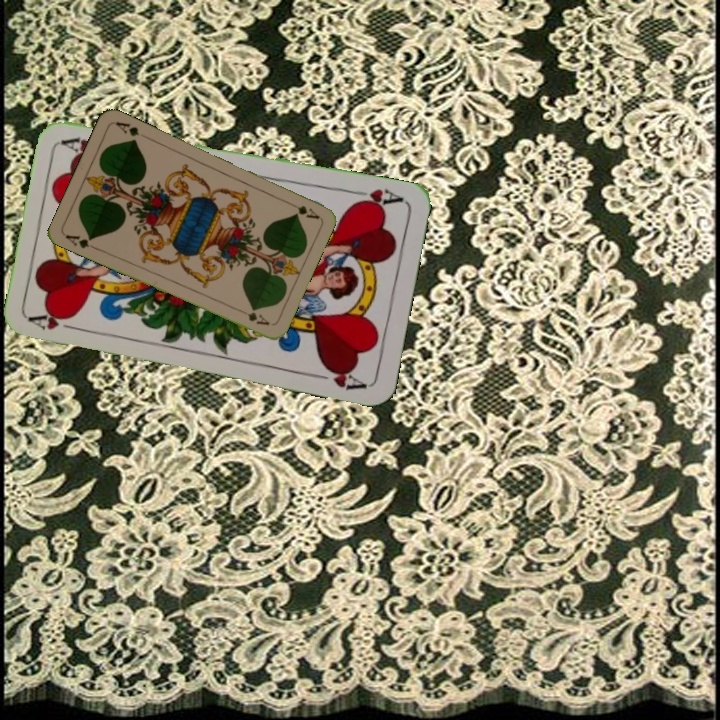GA: (283, 197, 321, 221), (61, 230, 100, 253)
HA: (347, 184, 406, 211), (27, 308, 85, 334)
